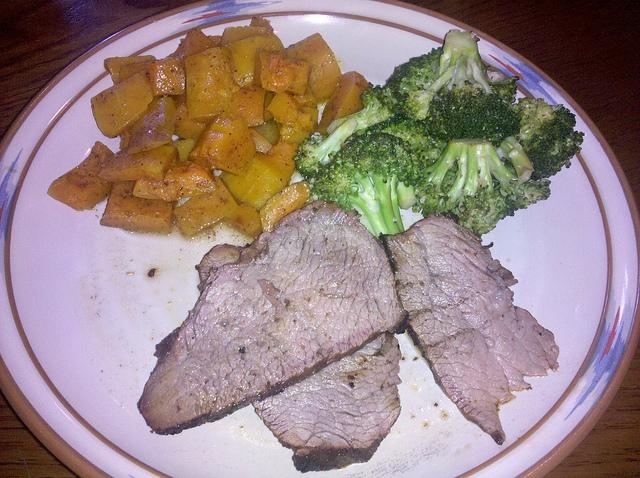broccoli: (412, 138, 552, 238), (308, 130, 425, 240), (396, 55, 522, 148), (379, 29, 491, 109), (514, 97, 586, 181), (341, 116, 450, 168), (292, 118, 358, 182), (326, 84, 400, 134), (492, 136, 535, 184)
